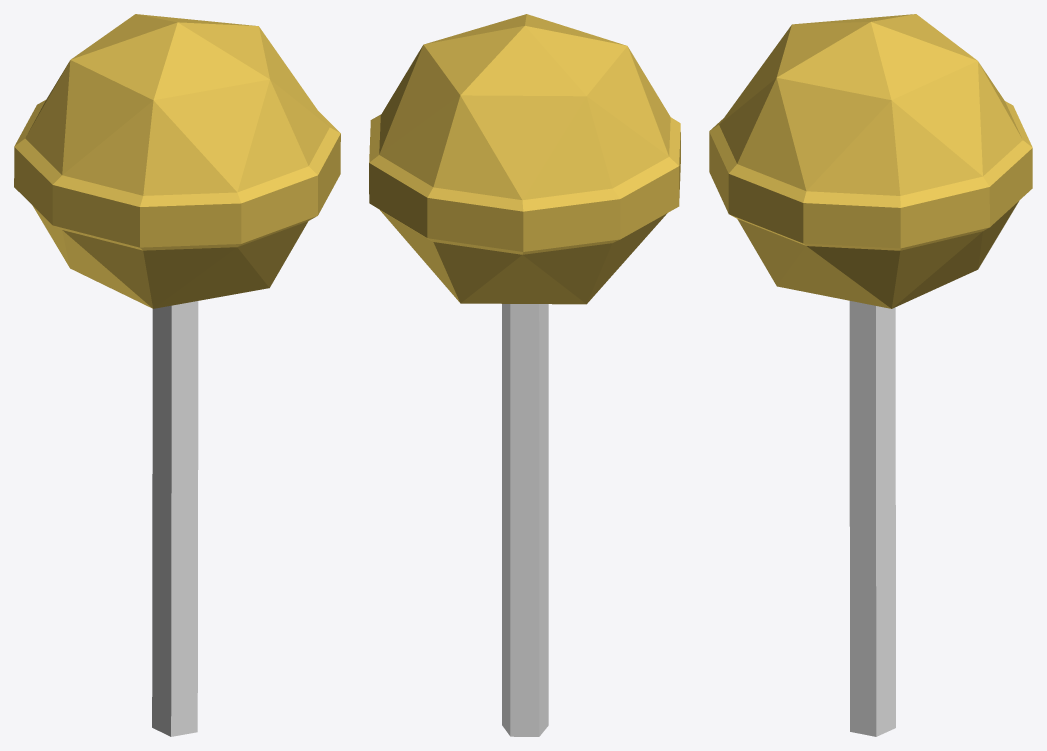
Rendered from lollipop_yellow.fbx.
The picture shows the model from 3 angles, left to right: view 1: azimuth 30°, elevation 25°; view 2: azimuth 150°, elevation 25°; view 3: azimuth 270°, elevation 25°; orthographic projection.
Visible parts, largest first — view 1: lollipop_yellow; view 2: lollipop_yellow; view 3: lollipop_yellow.
Boxes of the visible parts, x1=… form: lollipop_yellow: x1=14, y1=14, x2=340, y2=736; lollipop_yellow: x1=369, y1=14, x2=680, y2=736; lollipop_yellow: x1=709, y1=14, x2=1032, y2=736.
Bounding box in the file's own units: 3.41 × 8.22 × 3.42.
